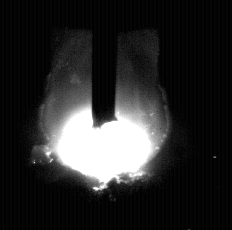arame: (93, 0, 117, 128)
poca: (41, 0, 171, 230)
